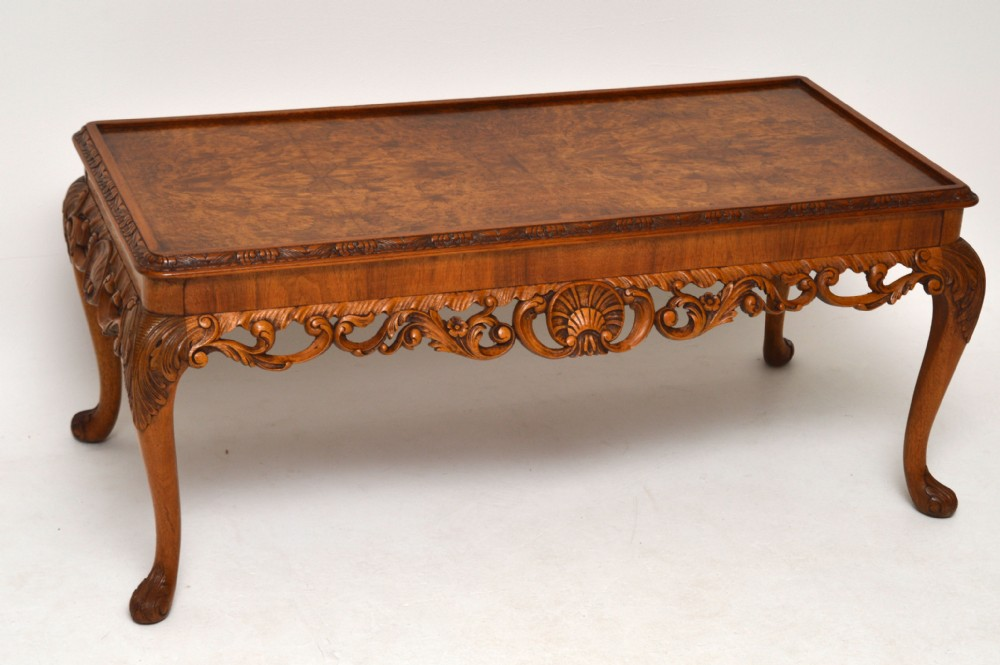Carving Table: (70, 96, 987, 561)
